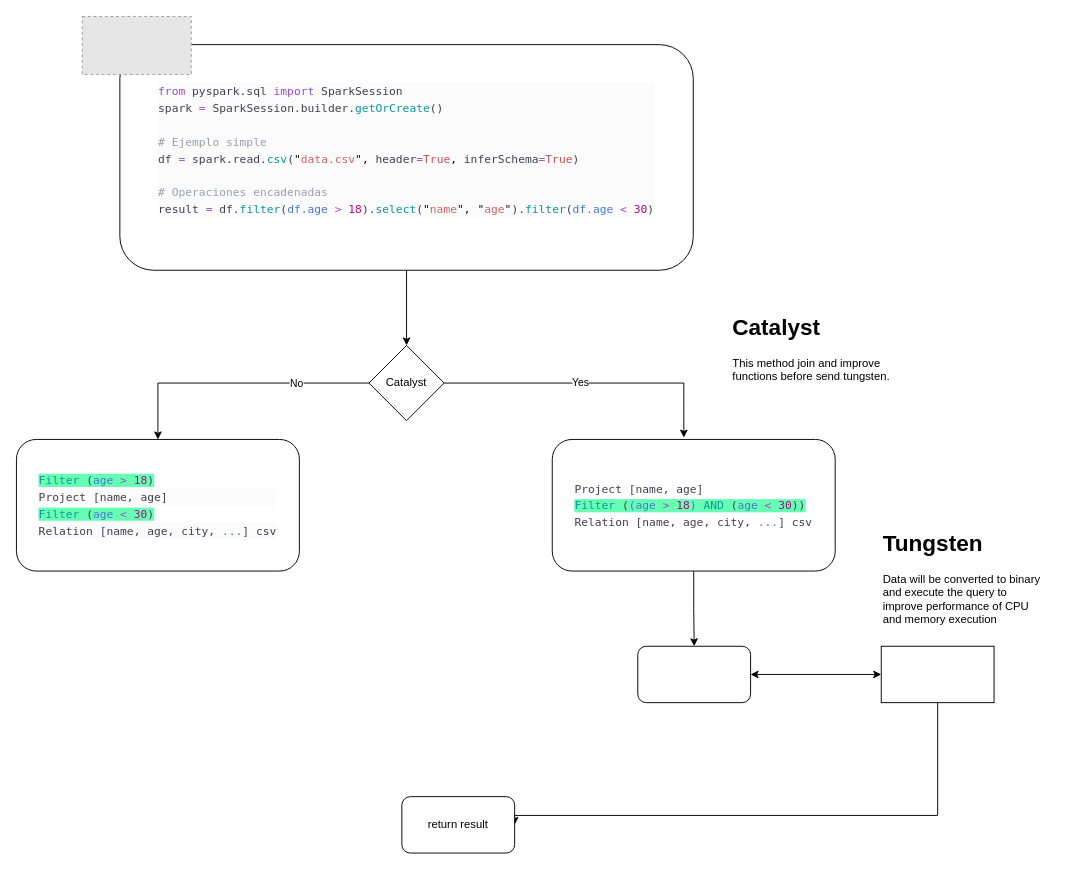
This 1067x870 diagram has some shape labels left out. Grey dashed boxes stand in for pictures. The shapes that lost their labels are listed below. From the top down, each one's box as (x1, y1, x2, y2) in pixels, then its label:
(637, 645, 751, 703): Query + Data
(880, 645, 994, 703): Data to binary (1,0)
